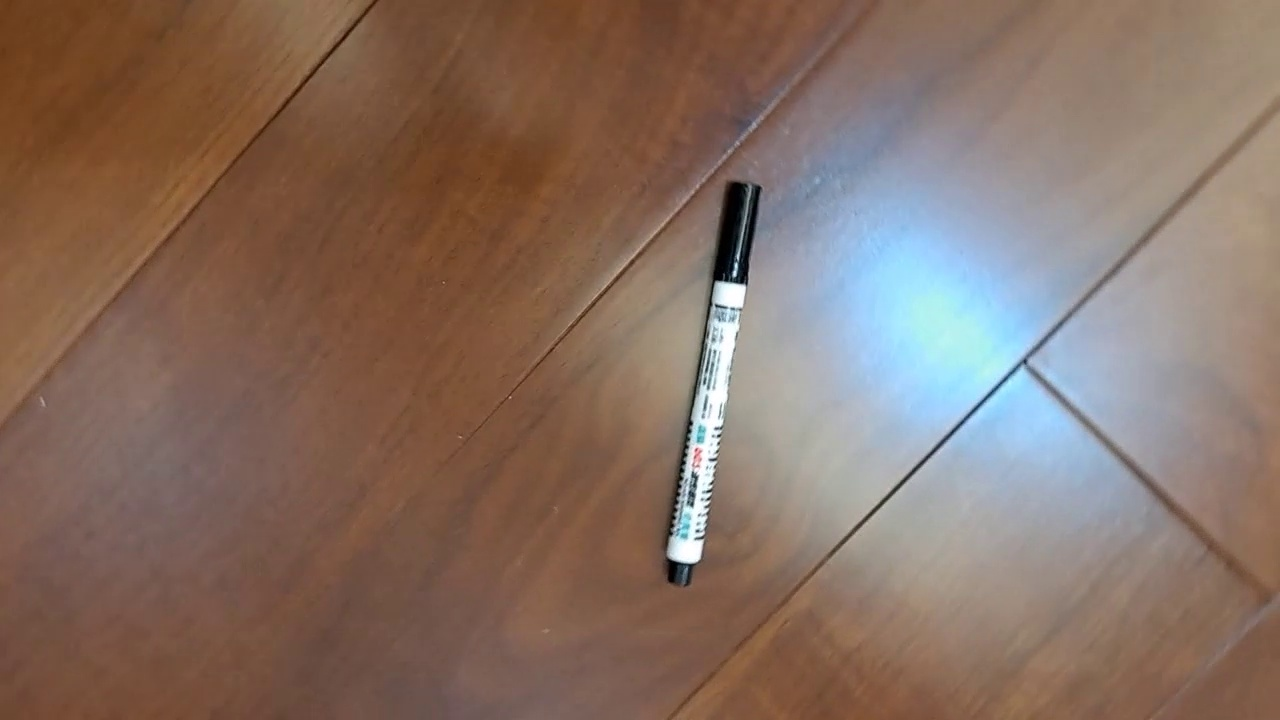pen: (664, 179, 764, 589)
